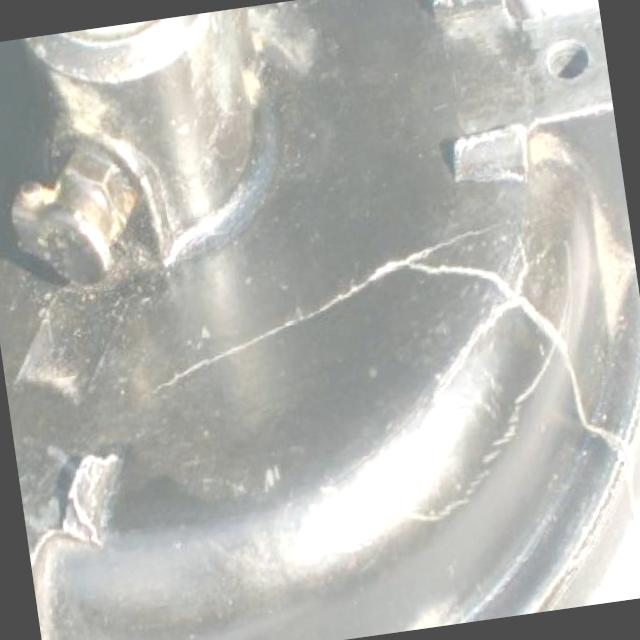crack: (138, 237, 640, 530)
